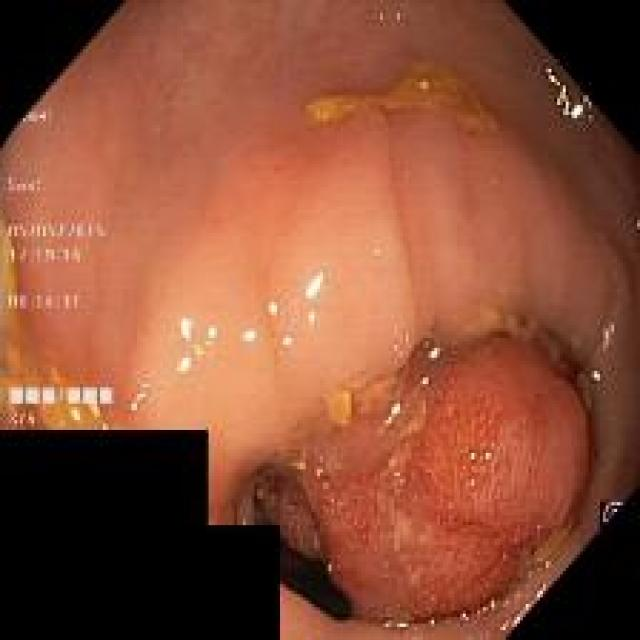Polyps: (309, 337, 590, 623)
